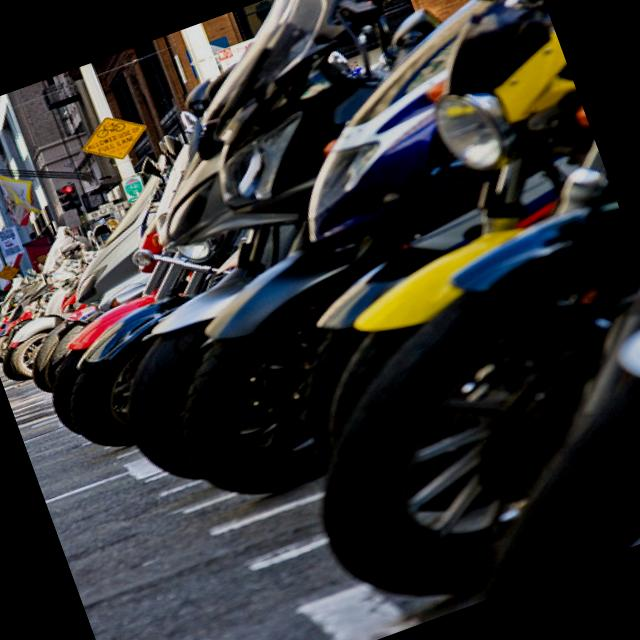Vehicle: (42, 0, 640, 537), (28, 5, 564, 502), (223, 134, 640, 637), (193, 0, 640, 467), (0, 0, 451, 460), (244, 178, 554, 468), (396, 305, 640, 605), (6, 216, 230, 431), (0, 174, 215, 386), (0, 215, 128, 388), (0, 261, 72, 365)
